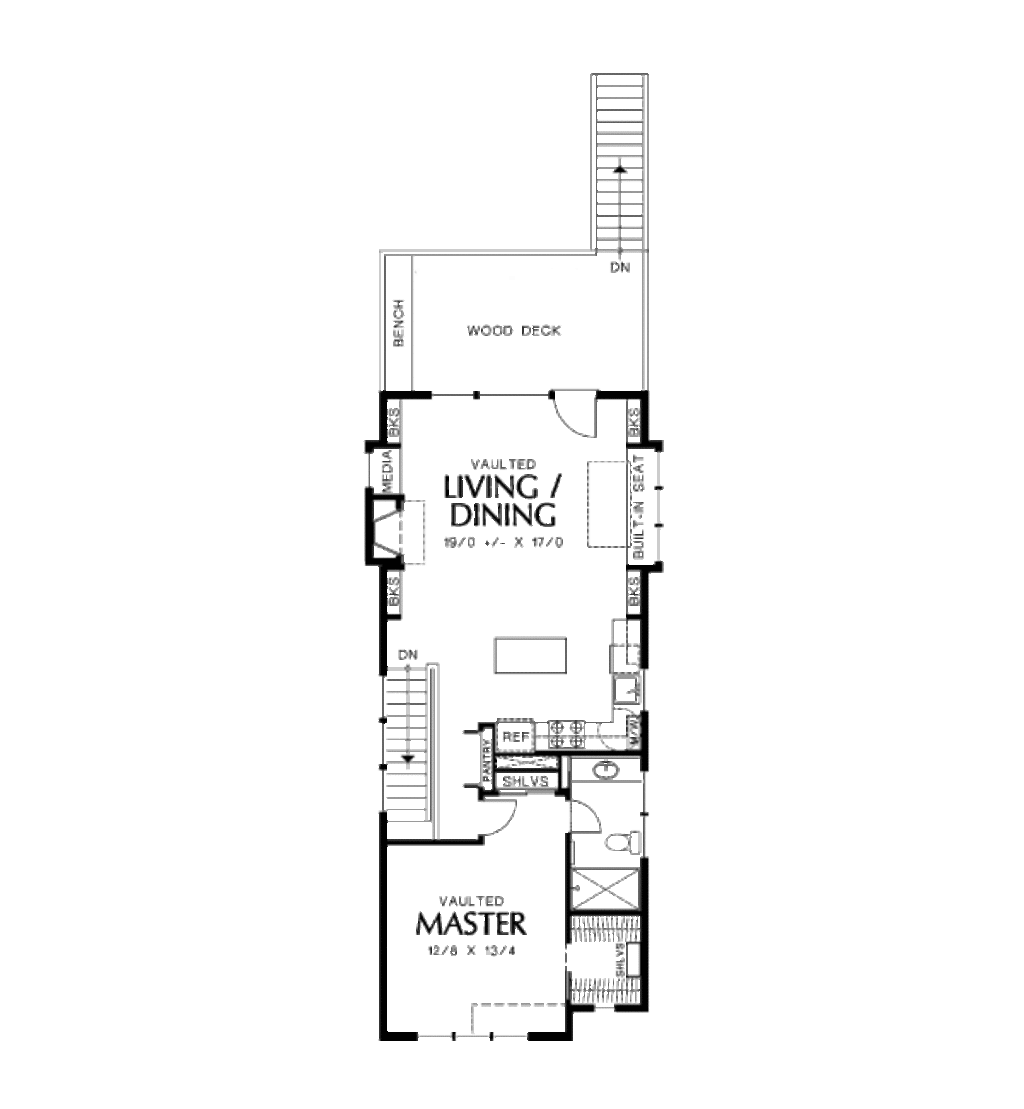door: (552, 381, 601, 453), (478, 791, 520, 845), (563, 790, 601, 841)
large_sink: (599, 831, 658, 871)
small_sink: (570, 750, 646, 781)
stairs: (585, 64, 670, 281), (377, 657, 449, 838)
window: (418, 1021, 523, 1048)
